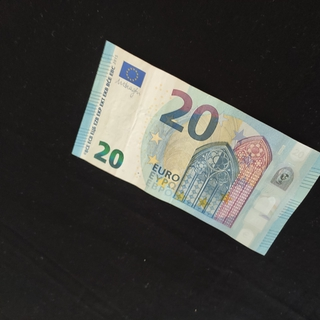20EUROFront: (71, 39, 320, 256)
